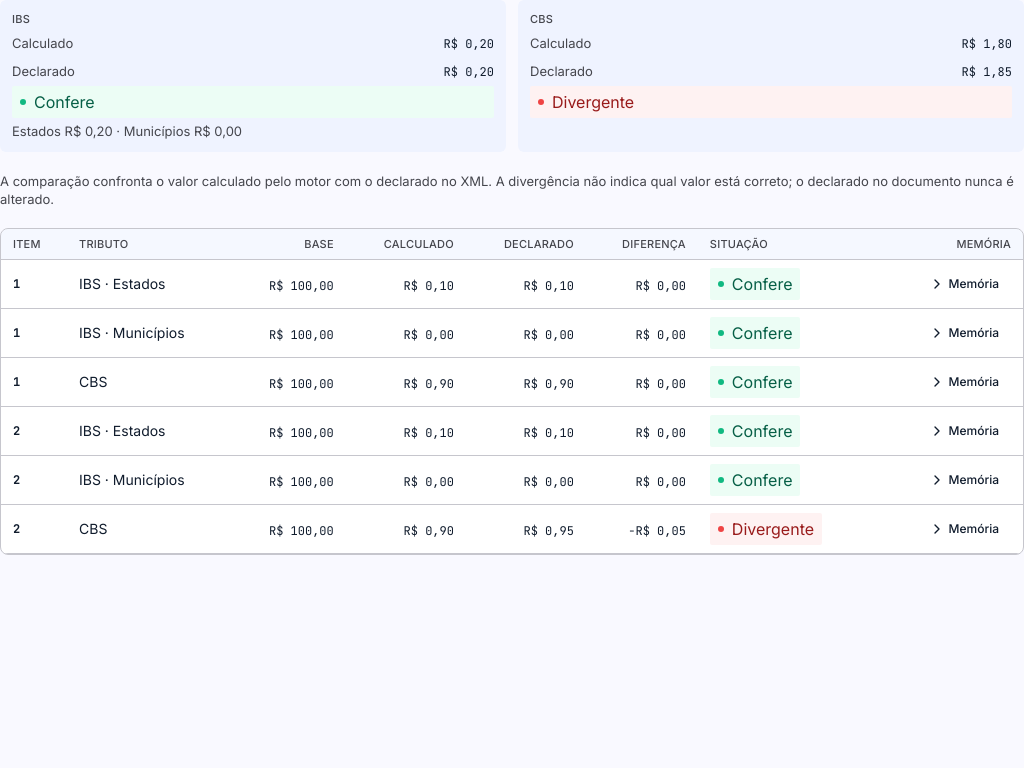
ResultadoDaNfe — cálculo por item e comparação com o declarado (SPEC-016 §3.6) › abre e fecha a memória de cálculo da linha, com o estado no botão
This screenshot has width=1024, height=768.
Click the button with aria-label "Ver memória". click: (964, 529)
box: x1=916 y1=513 x2=1011 y2=545
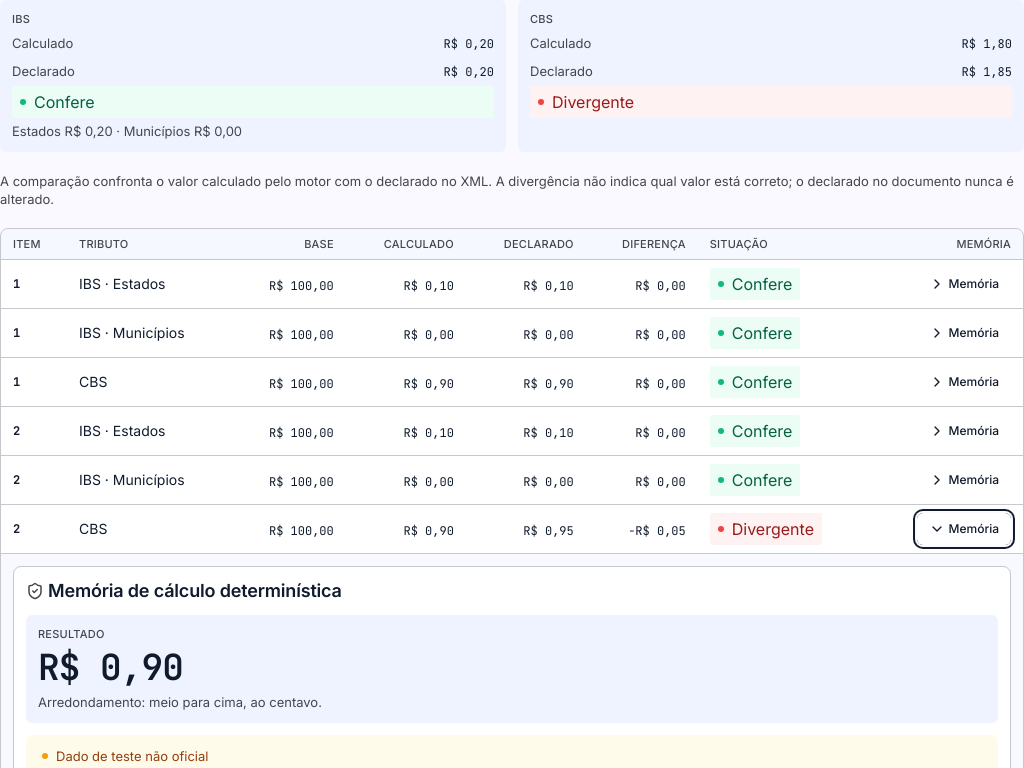
Now the button named "Ver memória" is expanded
Now the heading "Memória de cálculo determinística" is shown, box x1=26 y1=580 x2=342 y2=601
Click the button named "Ver memória". click: (964, 529)
box: x1=916 y1=513 x2=1011 y2=545
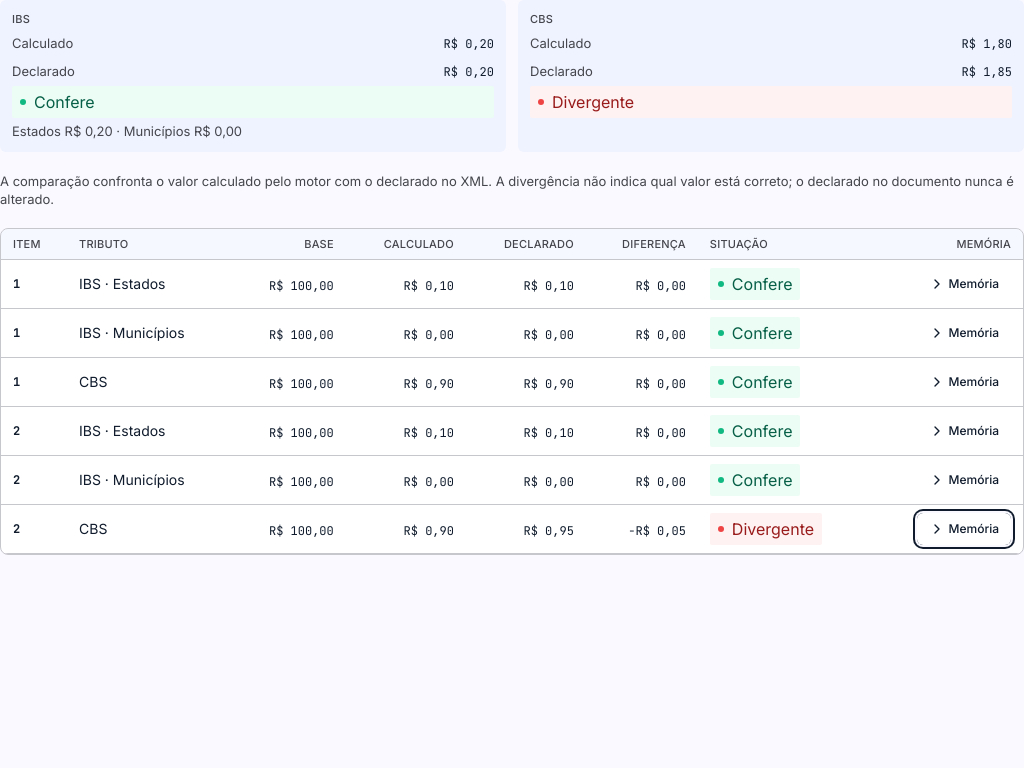
Now the heading "Memória de cálculo determinística" is gone
